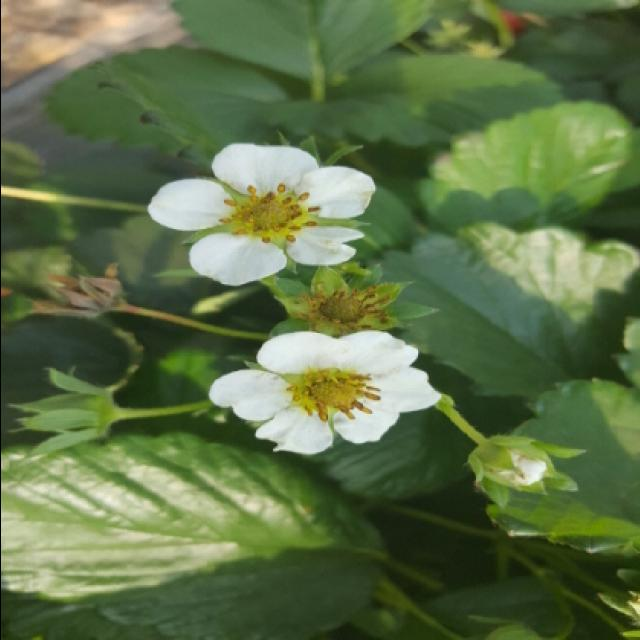Blossom Blight: (213, 175, 323, 252), (284, 364, 383, 423), (306, 281, 389, 335)
